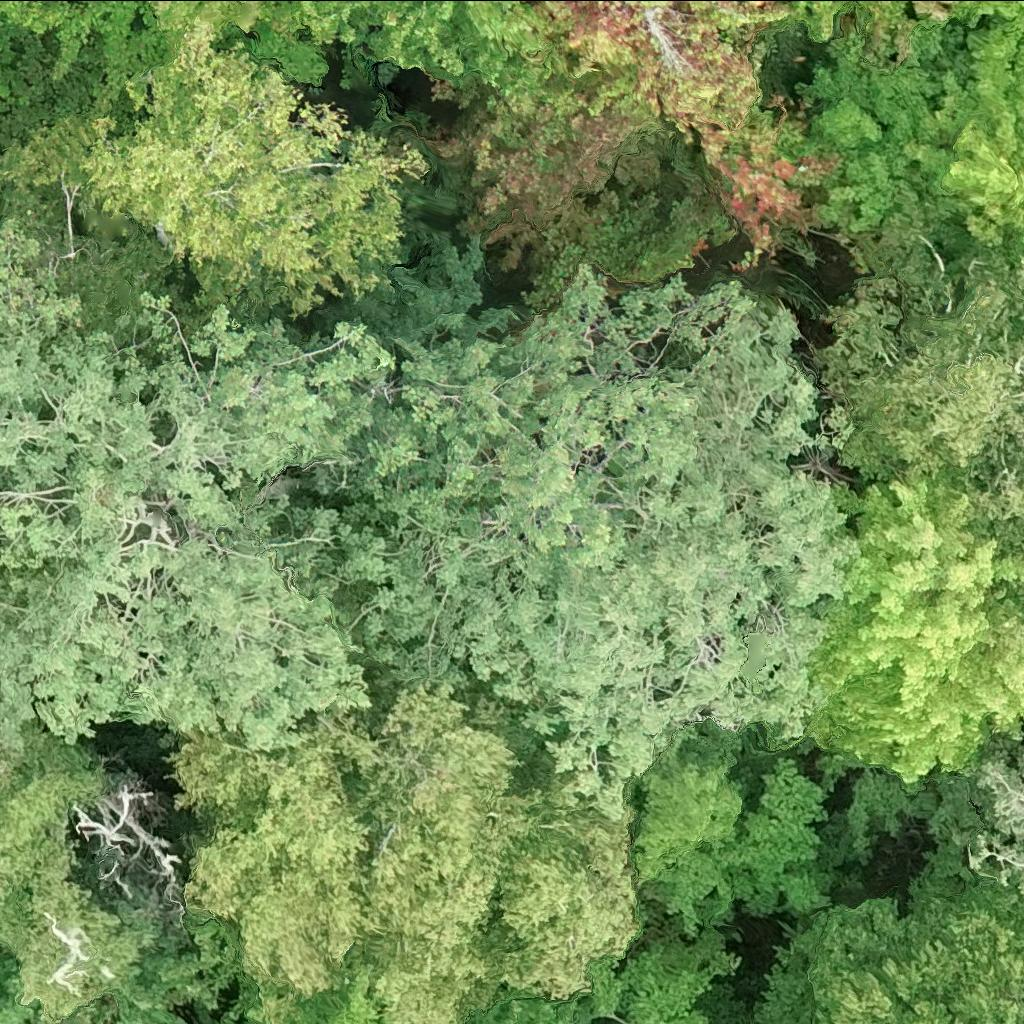crown: (239, 267, 860, 817), (0, 218, 391, 766), (174, 651, 638, 1023), (81, 20, 426, 303), (527, 0, 844, 269), (799, 475, 1023, 784), (819, 260, 1023, 567), (782, 14, 1023, 257), (430, 51, 674, 269), (0, 719, 164, 1021), (753, 847, 1023, 1023), (293, 0, 567, 95), (52, 0, 297, 85), (788, 0, 959, 70), (975, 764, 1023, 890), (954, 0, 1023, 87), (0, 936, 43, 1023), (991, 575, 1023, 623), (781, 0, 798, 3)
